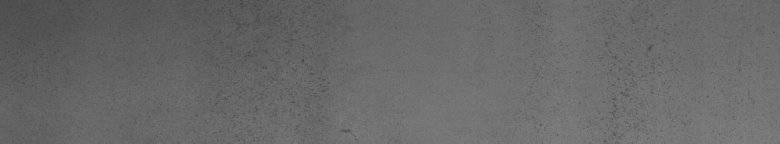ib: (525, 8, 661, 136)
